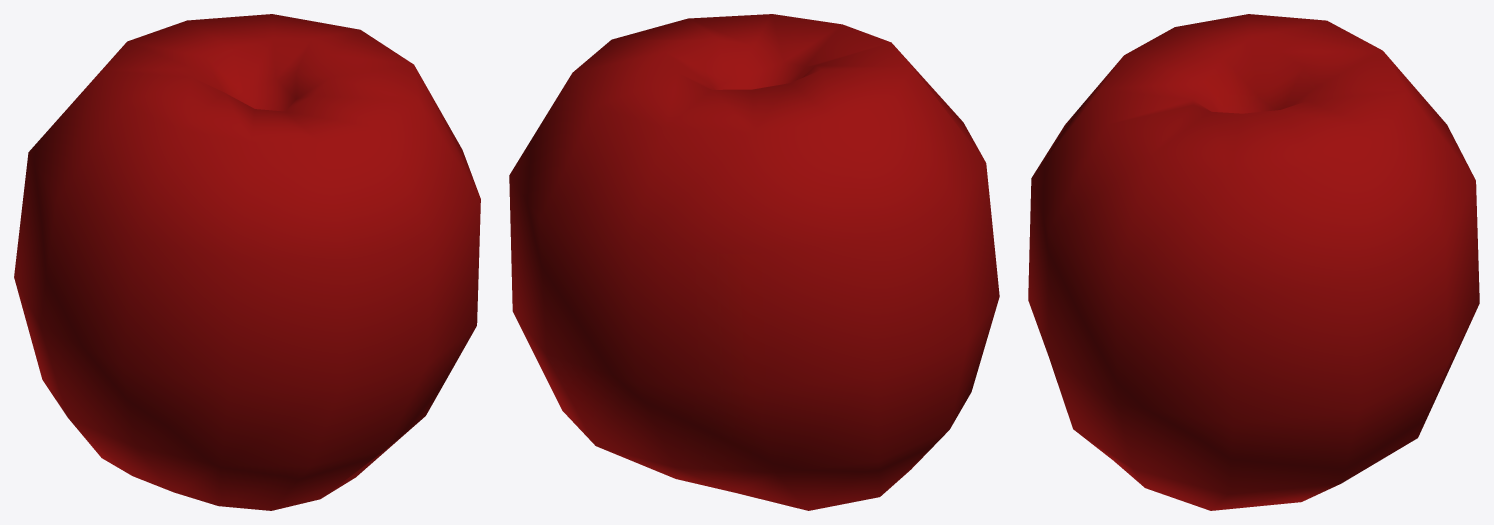
The model's file is SM_Apple.fbx.
3 renders of one model, left to right at view 1: azimuth 30°, elevation 25°; view 2: azimuth 150°, elevation 25°; view 3: azimuth 270°, elevation 25°, orthographic. The views are drawn at different scales.
Visible parts, largest first — view 1: SM_Apple; view 2: SM_Apple; view 3: SM_Apple.
Part boxes in pixels (x1,y1,x2,y2): SM_Apple: [14, 14, 480, 510]; SM_Apple: [509, 14, 999, 510]; SM_Apple: [1028, 14, 1479, 510].
Bounding box in the file's own units: 0.0692 × 0.0659 × 0.0658.
